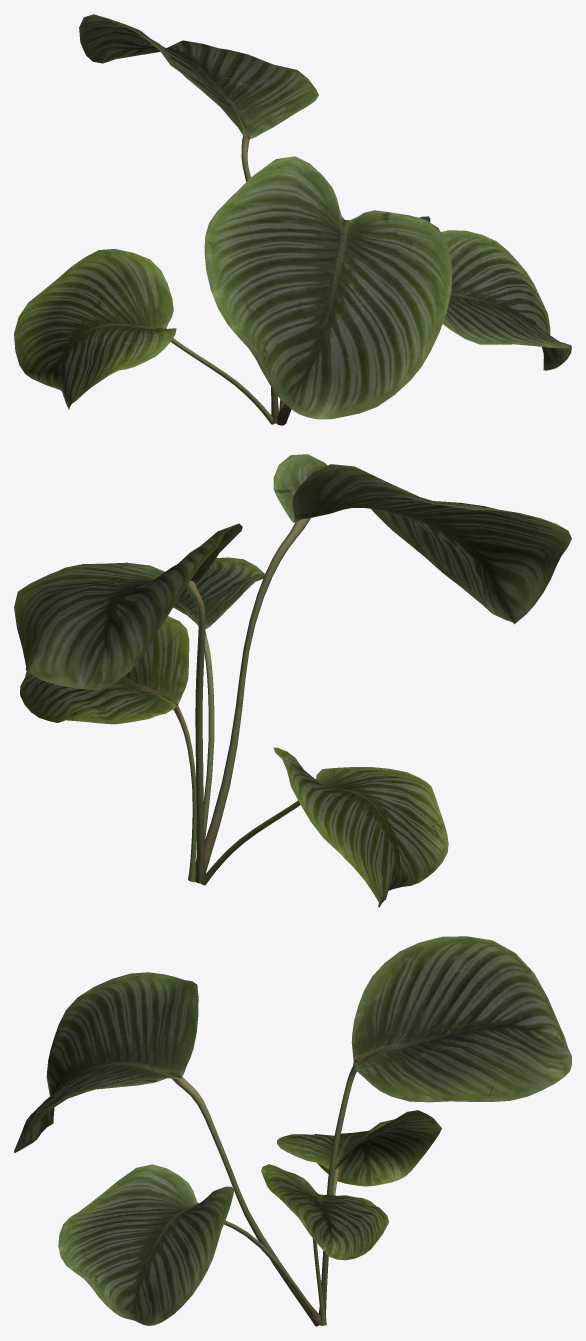
Rendered from calathea_orbifolia_01_c.gltf.
The picture shows the model from 3 angles, top to bottom: view 1: azimuth 30°, elevation 25°; view 2: azimuth 150°, elevation 25°; view 3: azimuth 270°, elevation 25°; orthographic projection. The views are drawn at different scales.
Parts seen in each view (by area): view 1: calathea_orbifolia_01_b; view 2: calathea_orbifolia_01_b; view 3: calathea_orbifolia_01_b.
Part boxes in pixels (x1,y1,x2,y2): calathea_orbifolia_01_b: [14, 14, 571, 425]; calathea_orbifolia_01_b: [14, 454, 571, 907]; calathea_orbifolia_01_b: [14, 936, 571, 1326].
Bounding box in the file's own units: 0.3474 × 0.3032 × 0.4403.
1 material, 1 textured.
